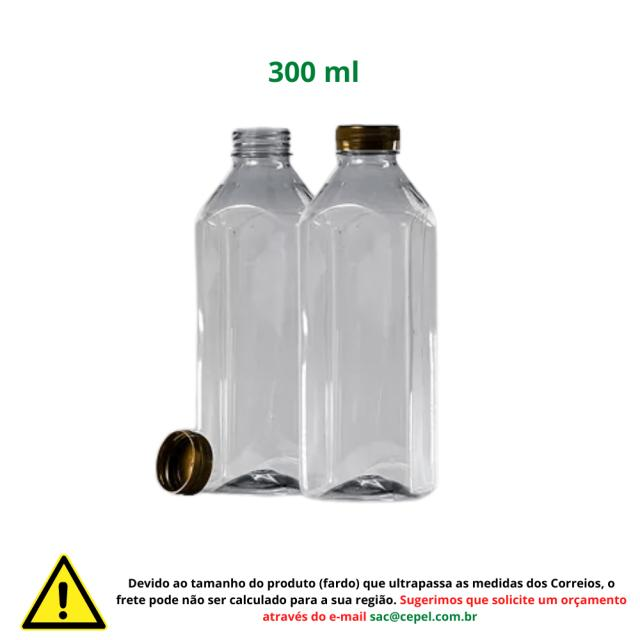bottle: (156, 128, 312, 494), (299, 126, 438, 498)
